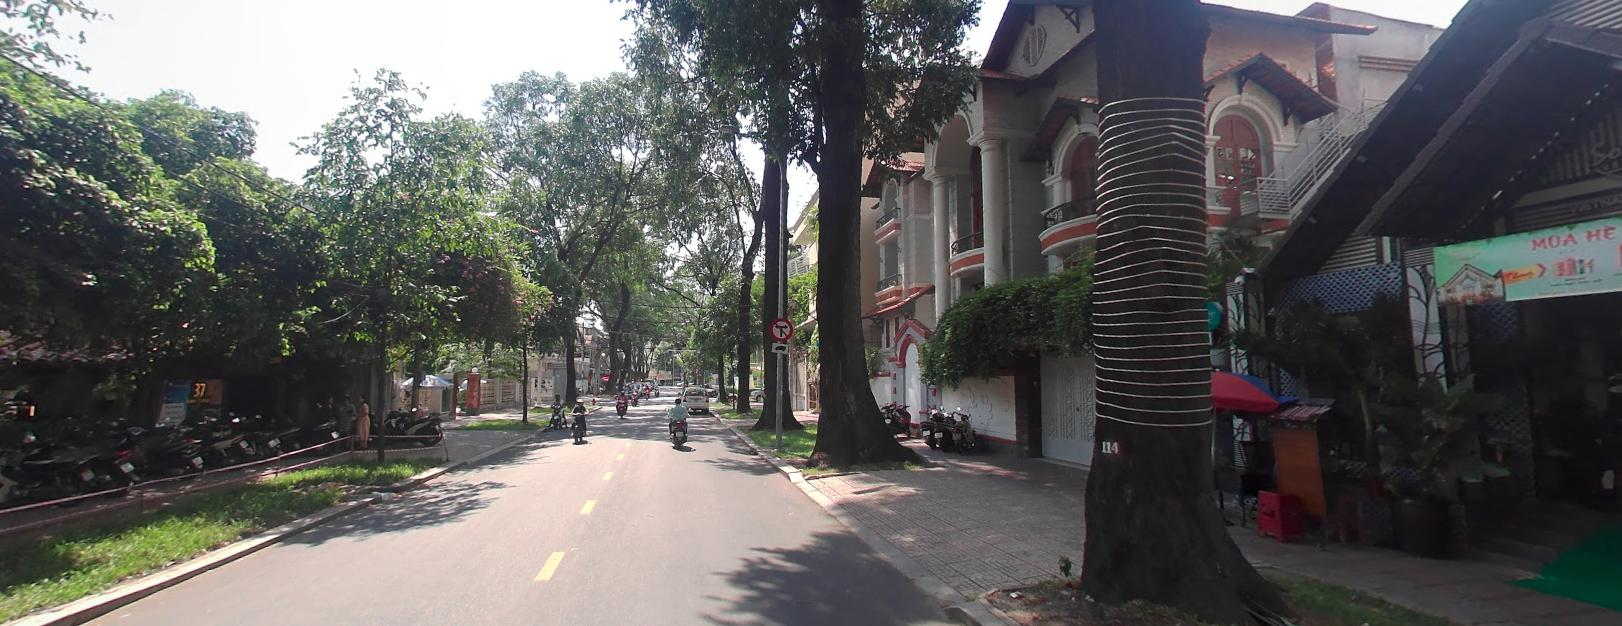Cam dung va do: (693, 367, 700, 372)
Cam re: (769, 316, 793, 339)
